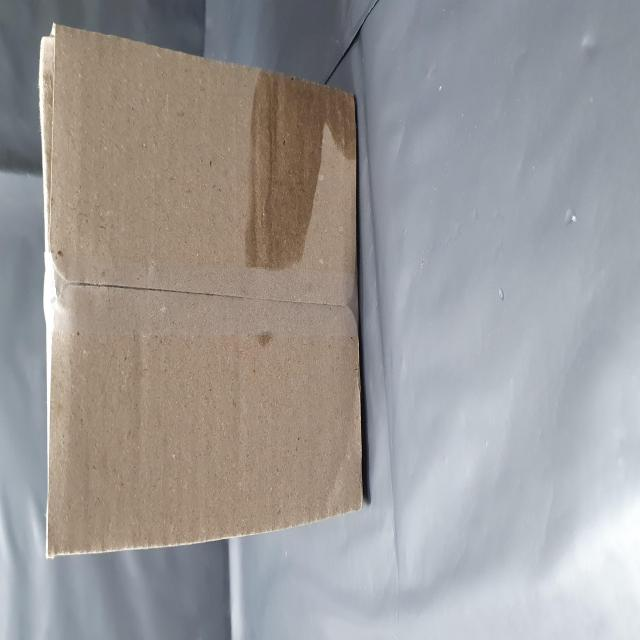wet: (204, 433, 322, 640)
